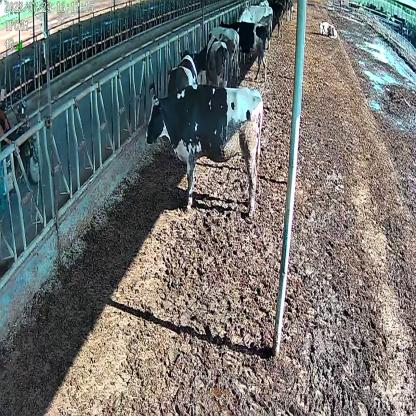cow: (145, 87, 265, 219), (193, 34, 229, 89), (168, 46, 197, 96), (319, 20, 338, 40)
